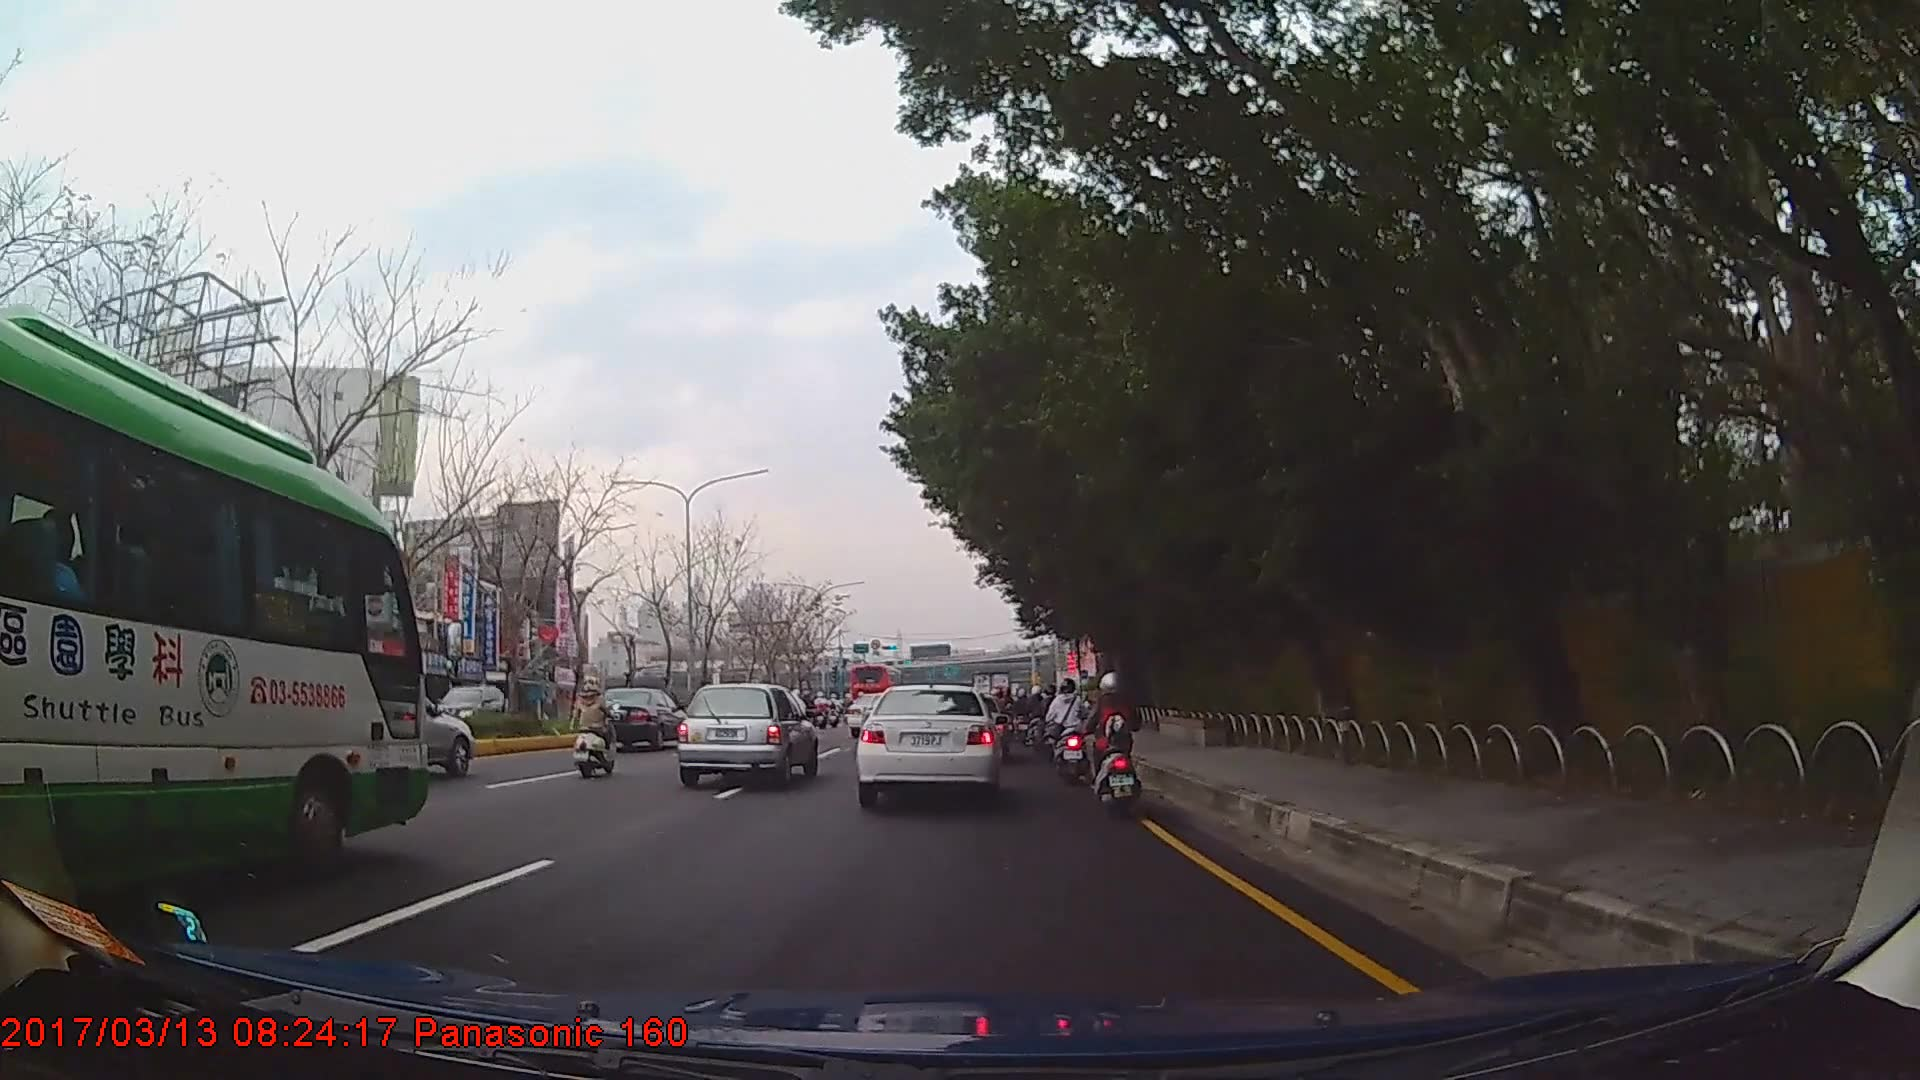rider: (1085, 669, 1148, 819), (1050, 677, 1093, 784), (576, 678, 618, 779), (1041, 682, 1064, 751)
vehicle: (0, 296, 431, 908), (853, 682, 1003, 804), (675, 681, 819, 789), (579, 684, 693, 751), (432, 681, 511, 735), (848, 658, 901, 709)
